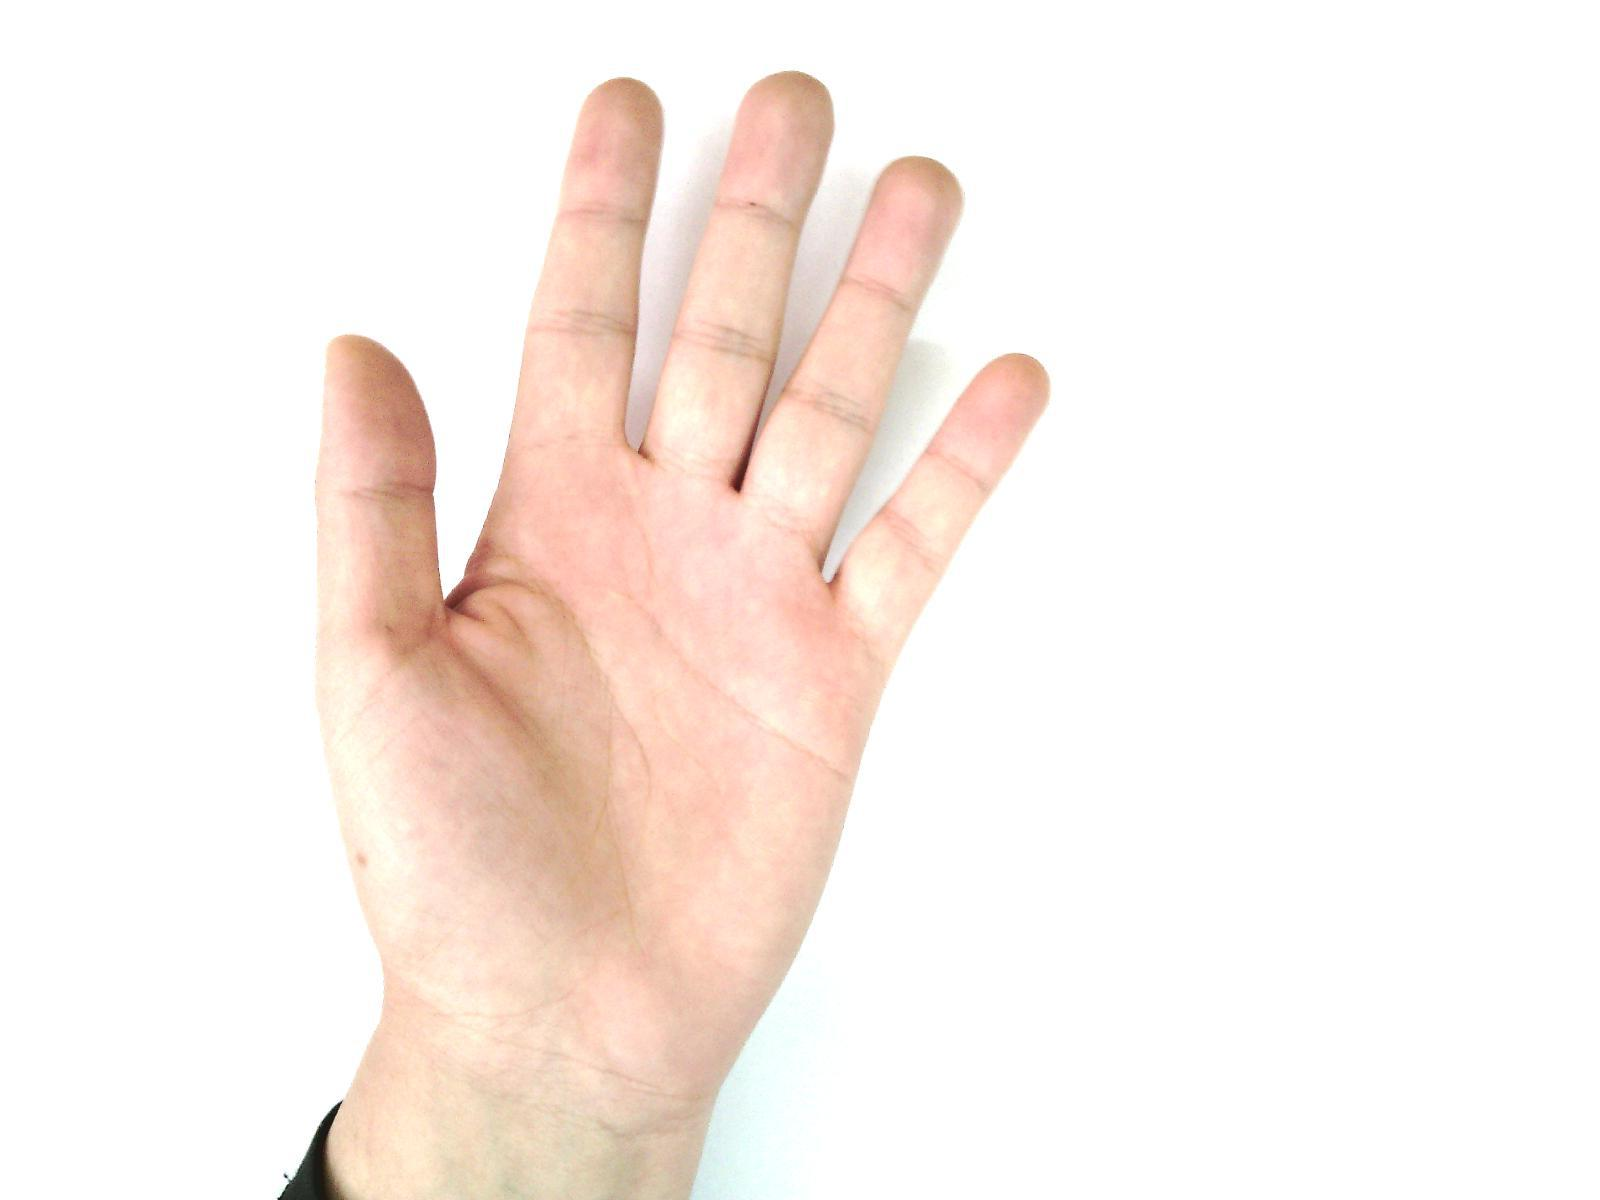hand: (314, 66, 1051, 1076)
